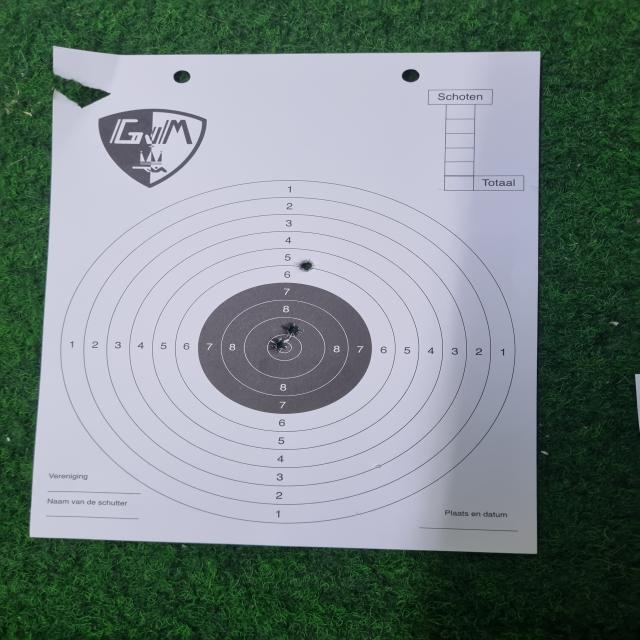10: (271, 338, 289, 353), (282, 324, 301, 338)
6: (297, 258, 315, 272)
Target: (60, 178, 520, 526)
black_contour: (197, 282, 374, 416)
